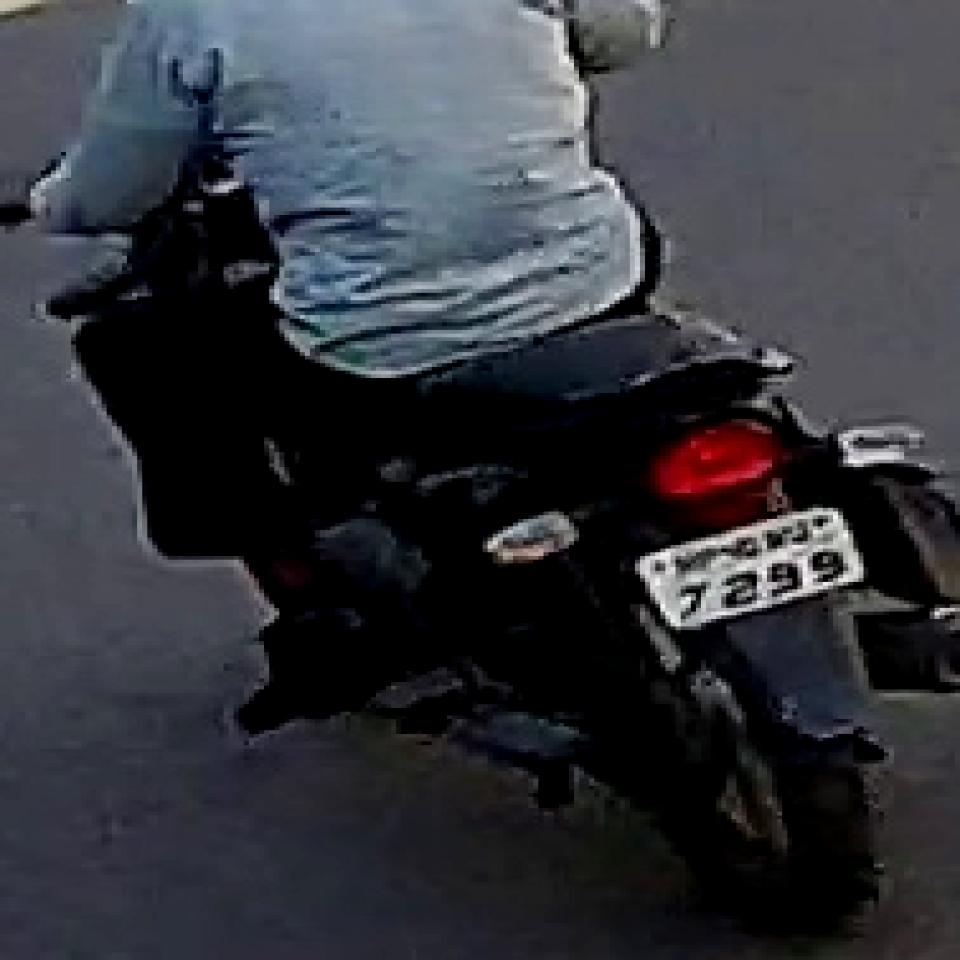tail_light: (650, 406, 784, 512)
